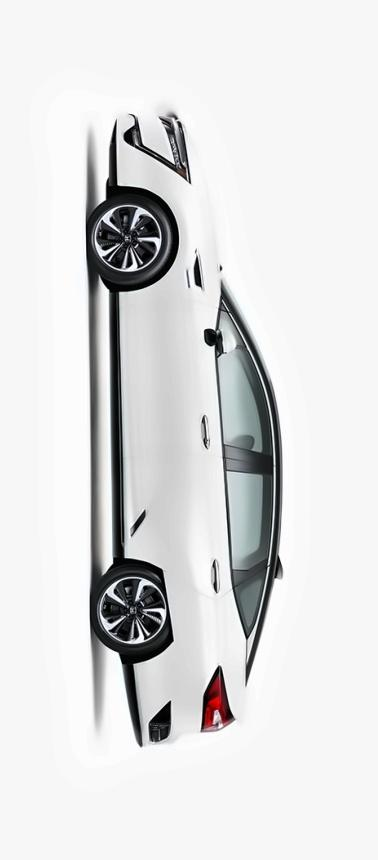Fender - -F-L-: (107, 186, 234, 312)
Fender - -R-L-: (141, 563, 251, 696)
Front bumper: (104, 109, 154, 187)
Headlight - -L-: (158, 110, 192, 188)
Passenger-s door - -F-L-: (99, 315, 305, 470)
Passenger-s door - -R-L-: (99, 463, 304, 609)
Rear bumper: (116, 656, 178, 752)
Rear light - -L-: (202, 663, 234, 733)
Side bumper - -L-: (99, 293, 163, 563)
Side mirror - -L-: (193, 314, 238, 364)
